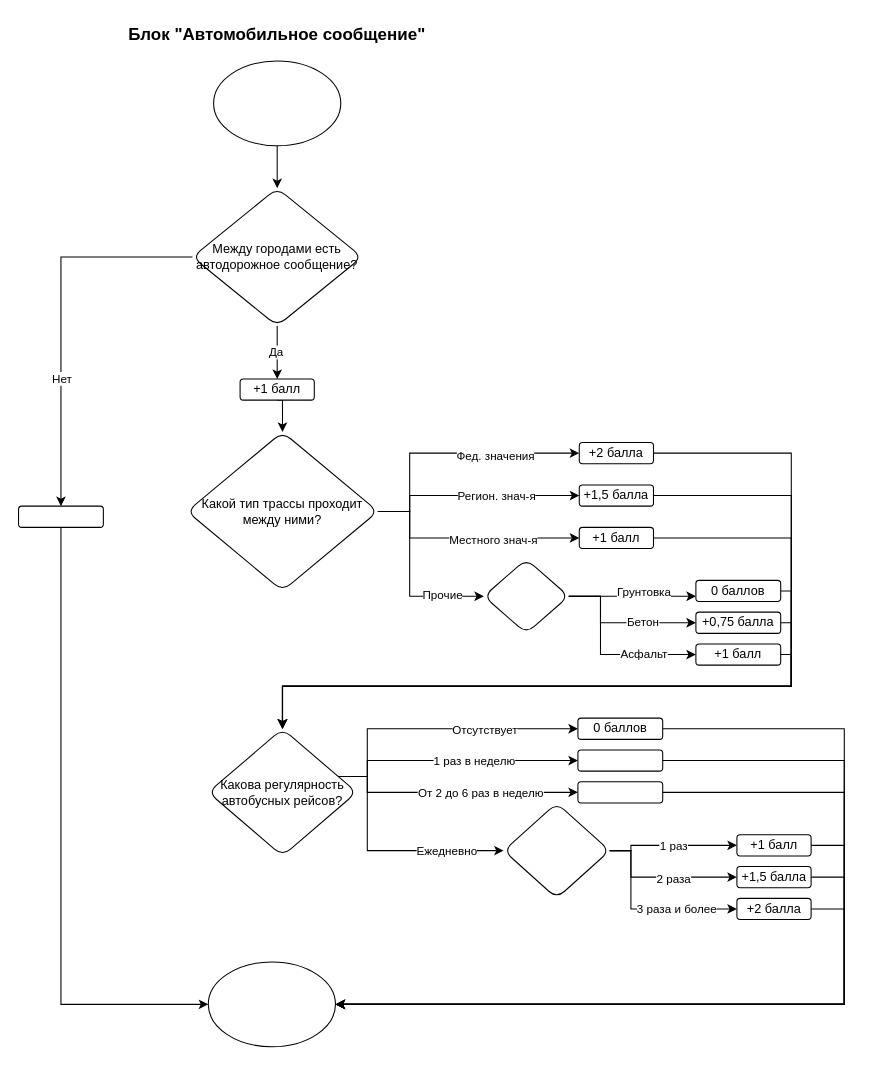
The diagram is 871 pixels wide and 1065 high, and some of its shapes have lost their labels. The box of each missing label's shape, as (x1, y1, x2, y2) in pixels:
+0 баллов: (17, 505, 103, 527)
+0,25 балла: (577, 749, 663, 771)
+0,5 балла: (577, 781, 663, 803)
Какое полотно?: (483, 558, 569, 633)
Конец: (207, 961, 335, 1047)
Начало: (213, 60, 341, 146)
Сколько раз в день: (503, 802, 610, 898)
